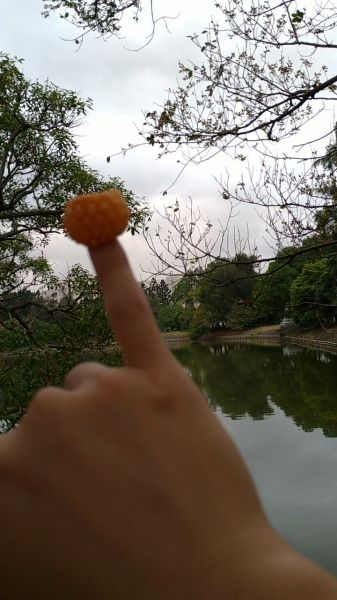eggs: (66, 190, 131, 245)
